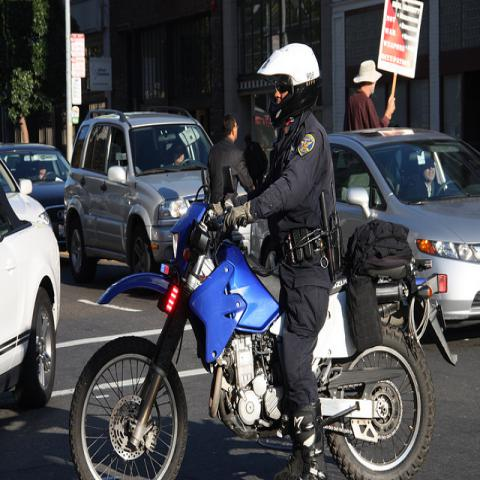car: (62, 108, 262, 282), (332, 125, 478, 319), (3, 171, 61, 405), (1, 143, 69, 248)
motorcycle: (71, 184, 459, 475)
